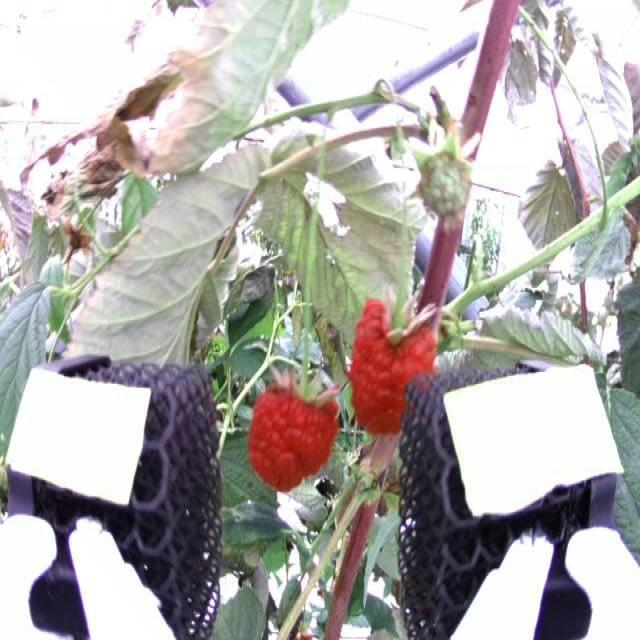Riped berries: (346, 288, 437, 426), (245, 369, 338, 494)
